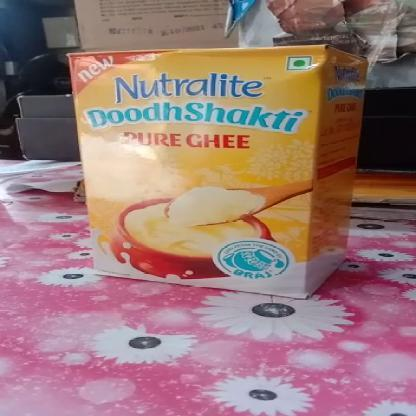Nutralite DOODHSHAKTHI PURE GHEE 1L: (90, 50, 328, 277)
